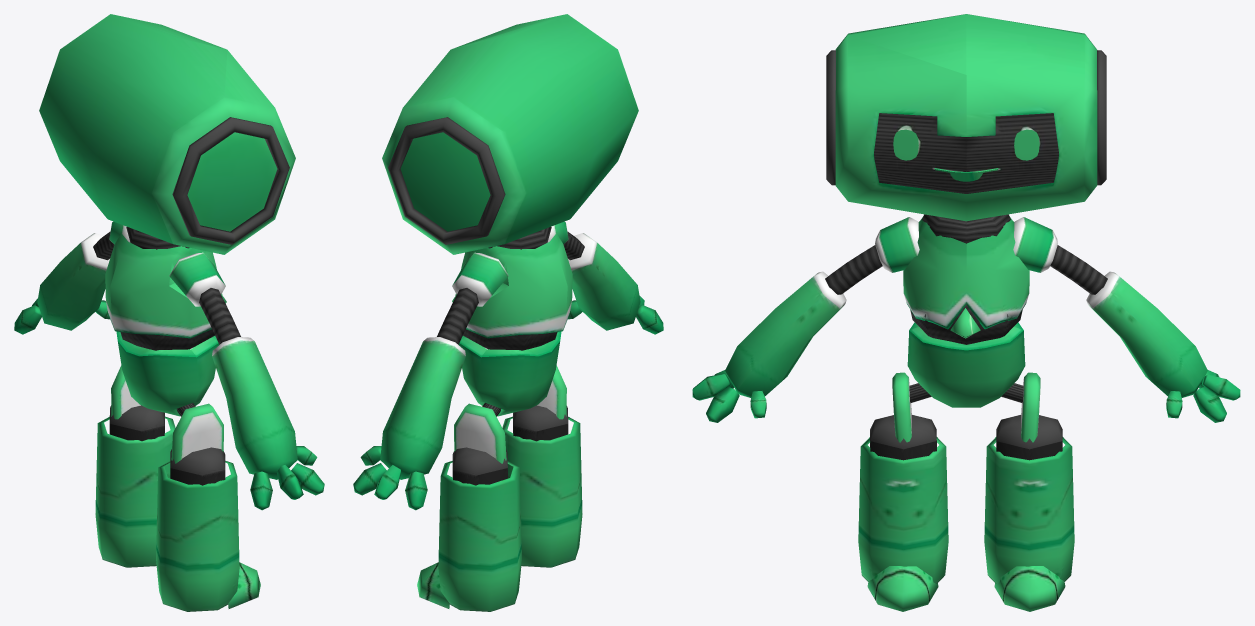
Rendered from robot.glb.
The picture shows the model from 3 angles, left to right: view 1: azimuth 30°, elevation 25°; view 2: azimuth 150°, elevation 25°; view 3: azimuth 270°, elevation 25°; orthographic projection. The views are drawn at different scales.
Visible parts, largest first — view 1: mesh_101; view 2: mesh_101; view 3: mesh_101.
Boxes of the visible parts, left/top/right/bottom form: mesh_101: left=14, top=14, right=324, bottom=611; mesh_101: left=353, top=14, right=663, bottom=611; mesh_101: left=692, top=14, right=1240, bottom=611.
Bounding box in the file's own units: 1.11 × 3.55 × 3.11.
1 material, 1 textured.
